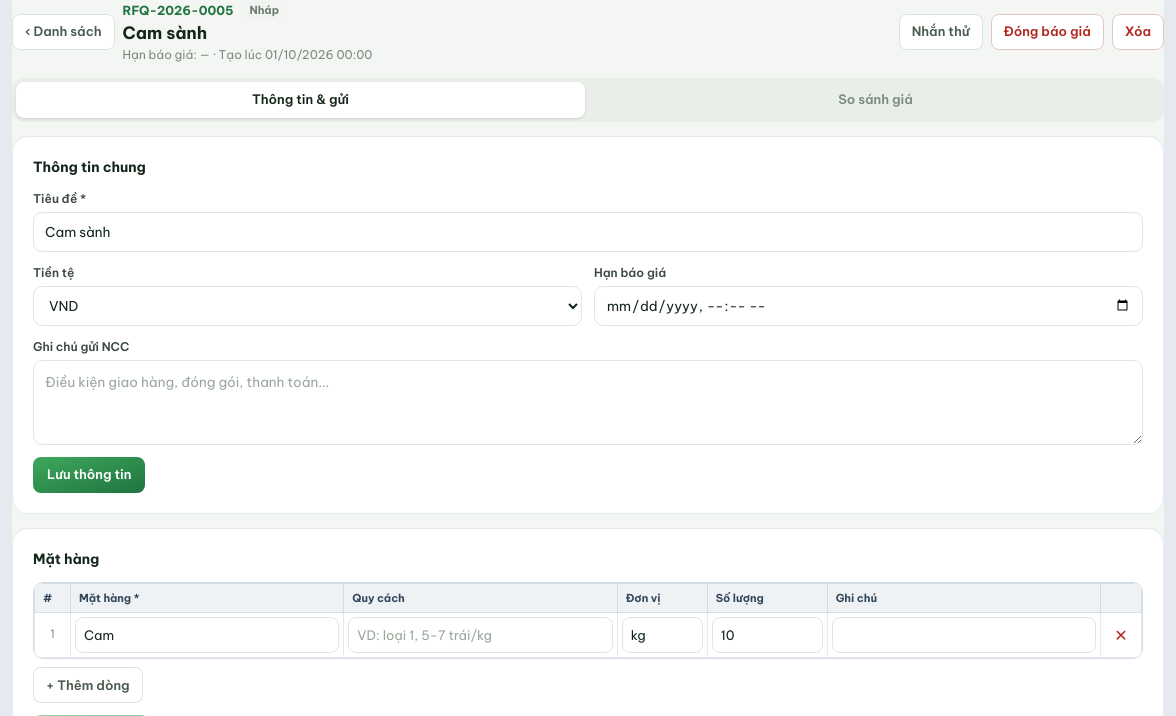
Test case: RfqDetailScreen › sửa mặt hàng chưa lưu thì chặn gửi và giải thích
Step 1. Replace the text in the field named "Mặt hàng dòng 1" with "Cam sành loại 1" → {"x": 207, "y": 635}, box left=75, top=617, right=339, bottom=653
(page scrolled)
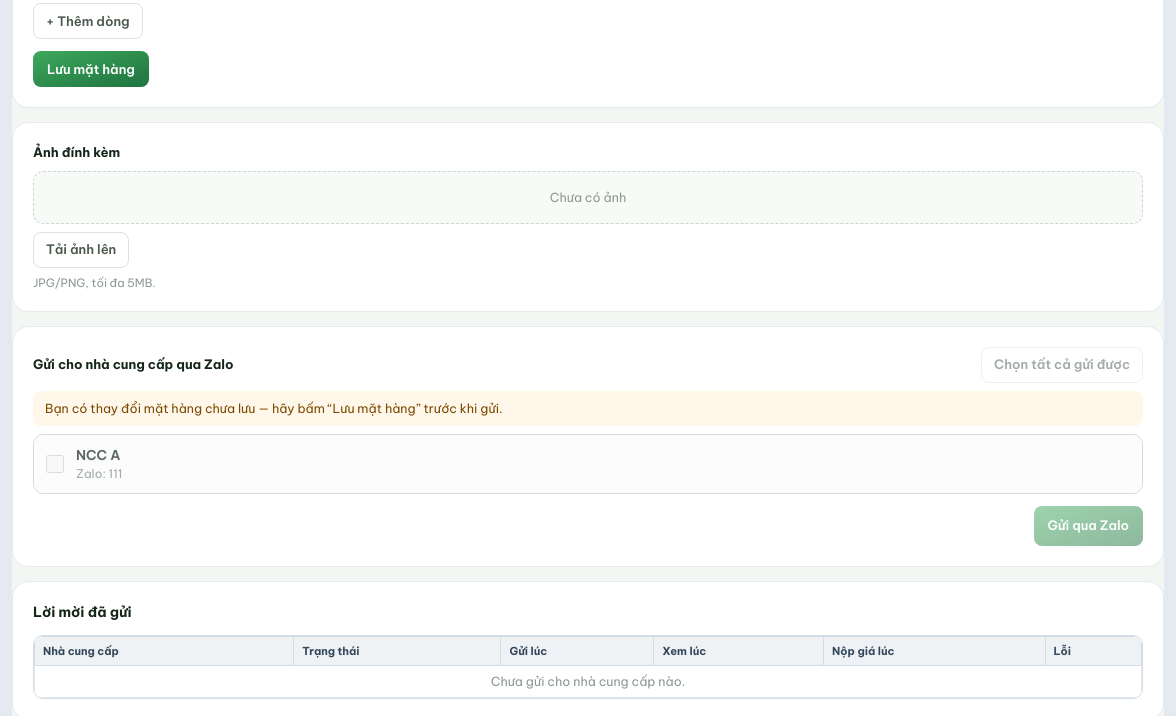
Check: the text "chưa lưu — hãy bấm “Lưu mặt hàng”" is shown, box left=45, top=400, right=502, bottom=416
Check: the checkbox named "Chọn NCC A" is disabled, box left=46, top=455, right=64, bottom=473
